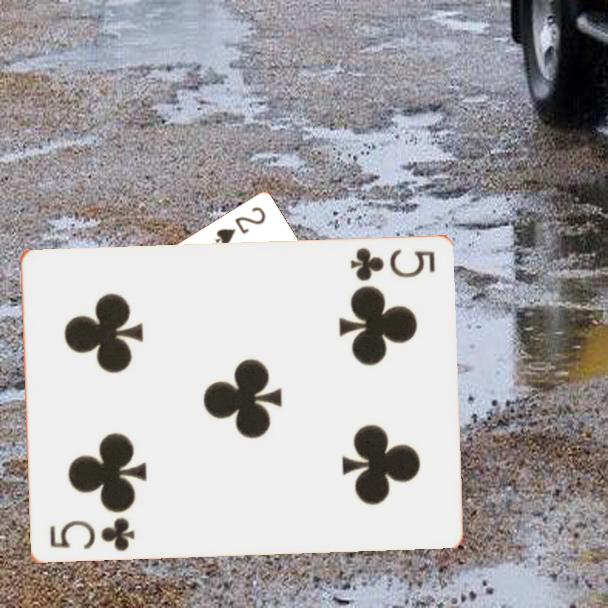c05: (346, 244, 438, 284), (46, 515, 137, 555)
s02: (211, 203, 269, 248)
